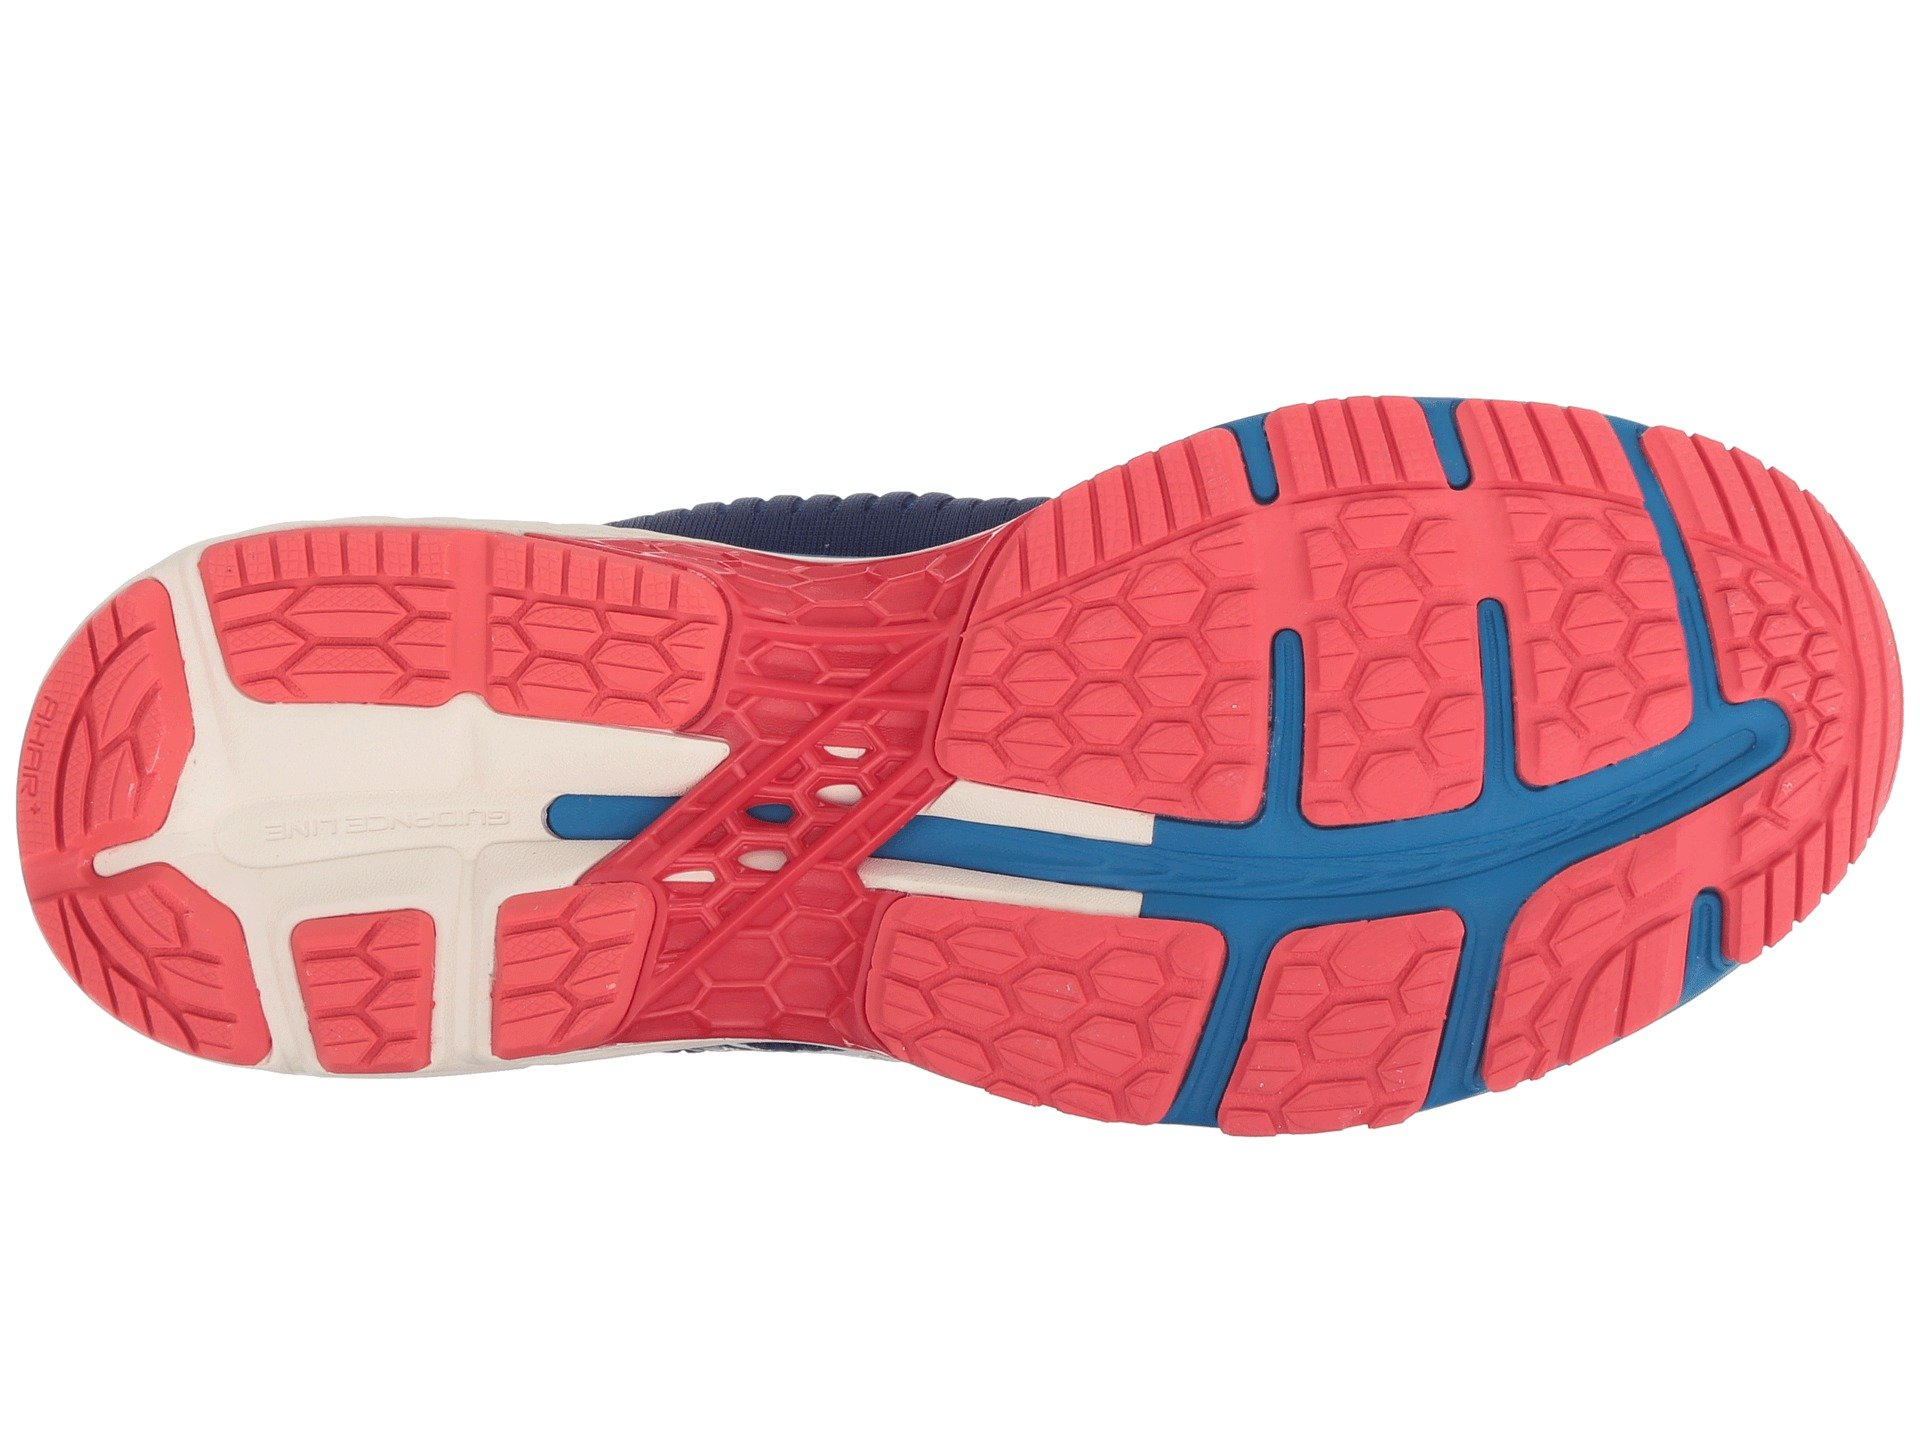polygon: (1500, 92, 1696, 399), (1302, 112, 1479, 414), (1225, 534, 1456, 746), (481, 200, 729, 343), (212, 200, 475, 334), (488, 504, 655, 687), (293, 514, 429, 712)
quad: (1500, 92, 1696, 399), (1302, 112, 1479, 414), (1225, 534, 1456, 746), (481, 200, 729, 343), (212, 200, 475, 334), (488, 504, 655, 687), (293, 514, 429, 712)
